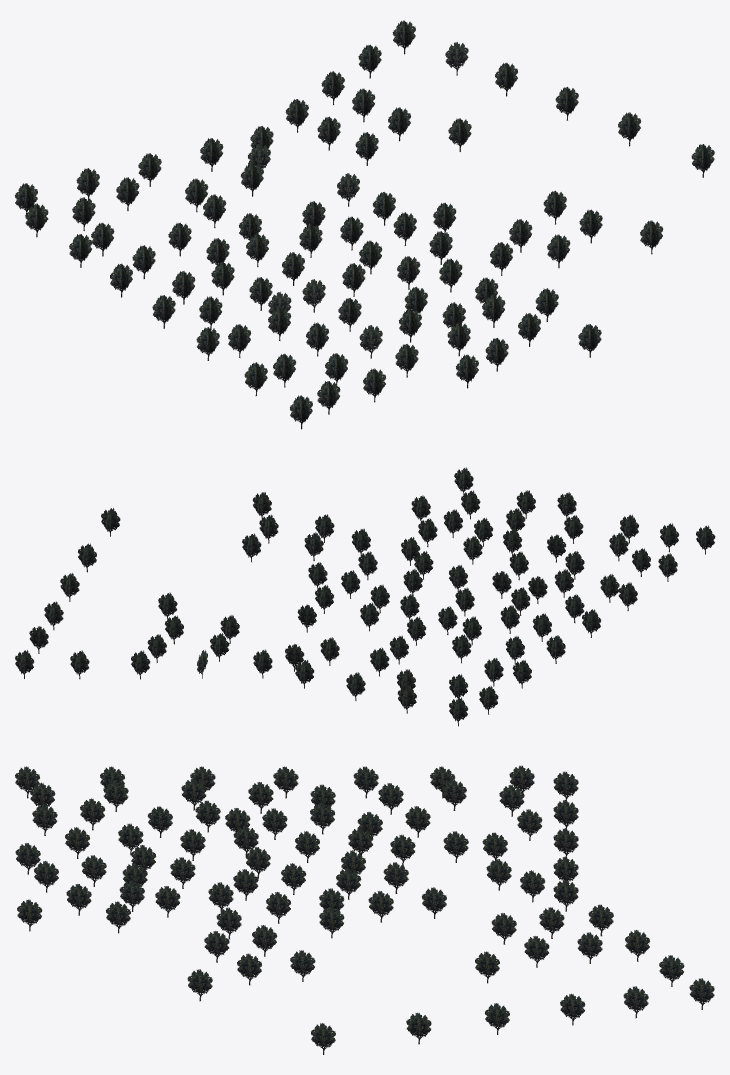
The model's file is planeTree19.FBX.
The picture shows the model from 3 angles, top to bottom: view 1: azimuth 30°, elevation 25°; view 2: azimuth 150°, elevation 25°; view 3: azimuth 270°, elevation 25°; orthographic projection. The views are drawn at different scales.
Parts seen in each view (by area): view 1: planeTree19; view 2: planeTree19; view 3: planeTree19.
Boxes of the visible parts, x1=… form: planeTree19: x1=15, y1=20, x2=714, y2=429; planeTree19: x1=15, y1=467, x2=715, y2=726; planeTree19: x1=15, y1=765, x2=714, y2=1054.
Bounding box in the file's own units: 4947 × 279 × 5454.
